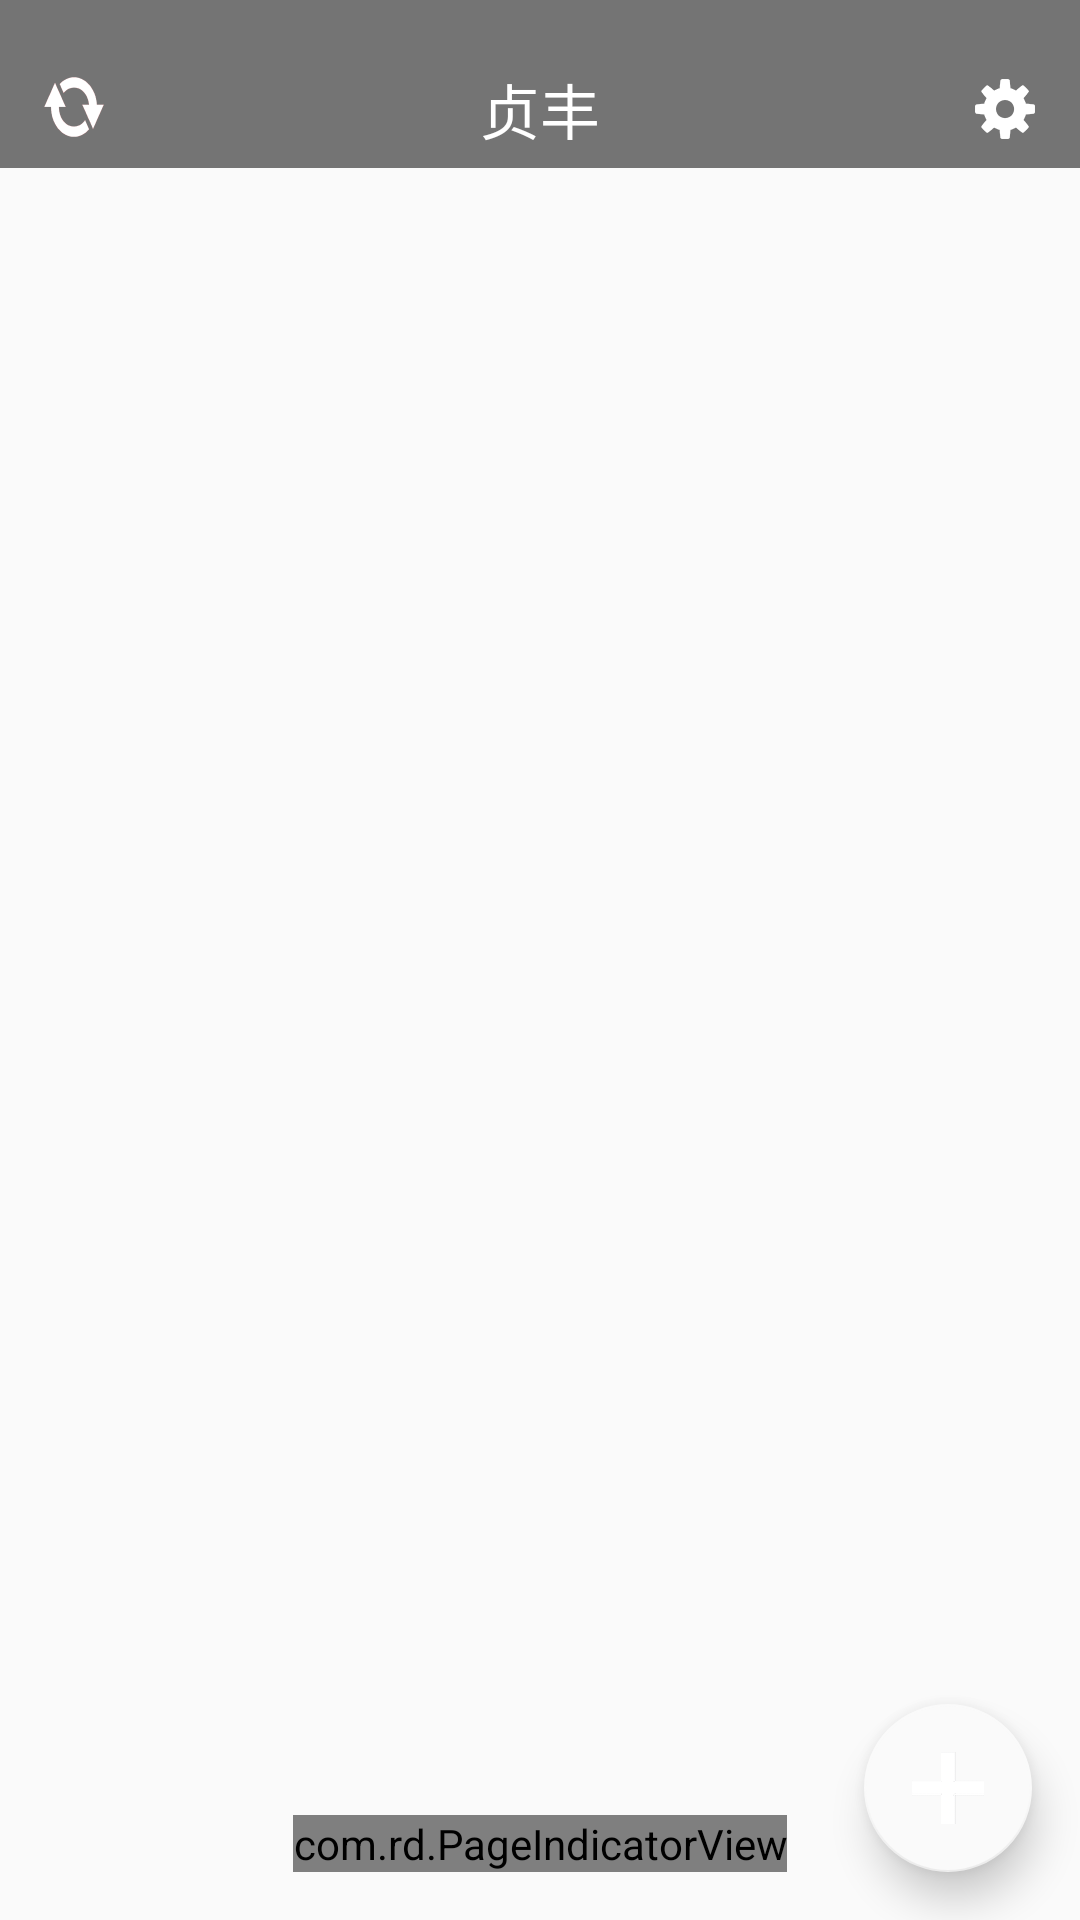

Screen size 1080w x 1920h. Icon name, then its box in pixels as box(x1, y1, x2, y2):
settings: box(975, 79, 1035, 139)
switch: box(44, 77, 104, 137)
